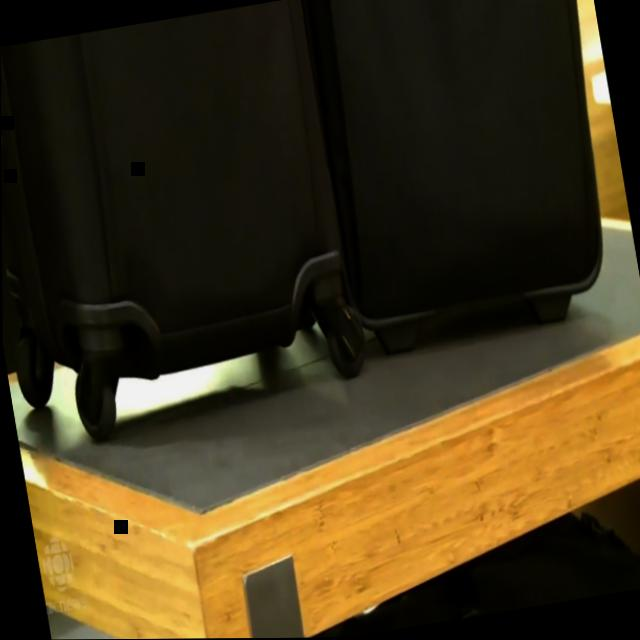luggage: (0, 0, 379, 436), (303, 0, 637, 341)
